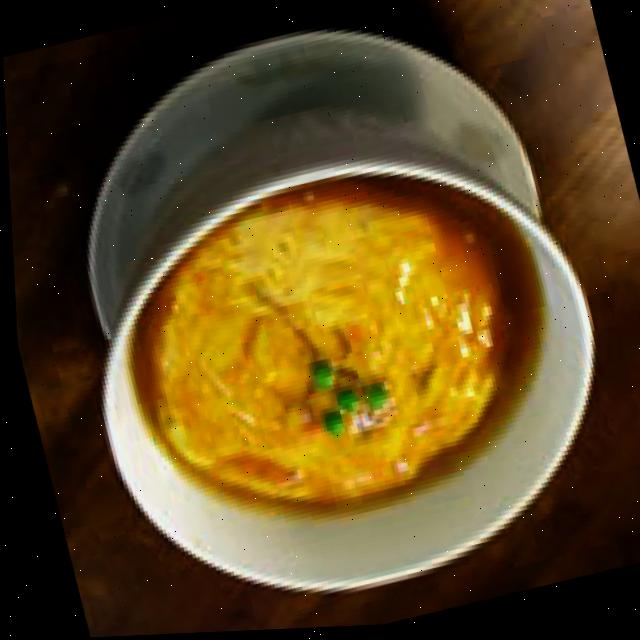面条主食: (82, 103, 619, 574)
